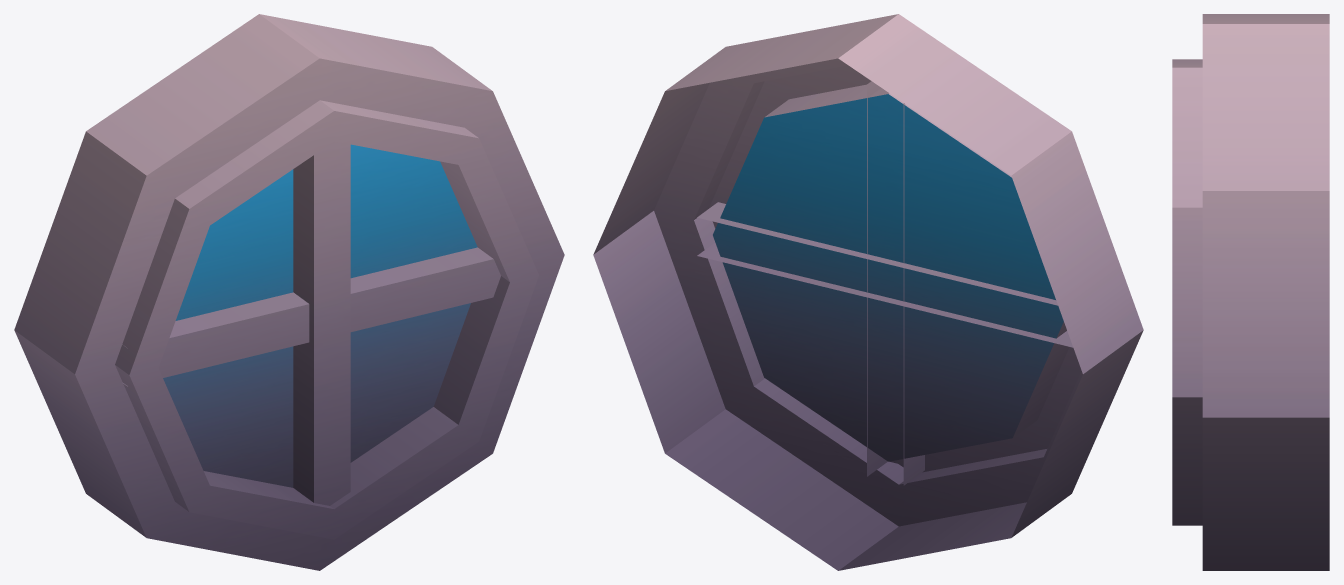
Rendered from Window 3.fbx.
3 views of the same model, side by side, from view 1: azimuth 30°, elevation 25°; view 2: azimuth 150°, elevation 25°; view 3: azimuth 270°, elevation 25° (orthographic). The views are drawn at different scales.
Parts seen in each view (by area): view 1: Window 3; view 2: Window 3; view 3: Window 3.
Part boxes in pixels (<box>): Window 3: <box>14,14,564,570</box>; Window 3: <box>593,14,1143,570</box>; Window 3: <box>1172,14,1329,570</box>.
Size of the model in its own units: 75.46 by 75.46 by 20.06.
